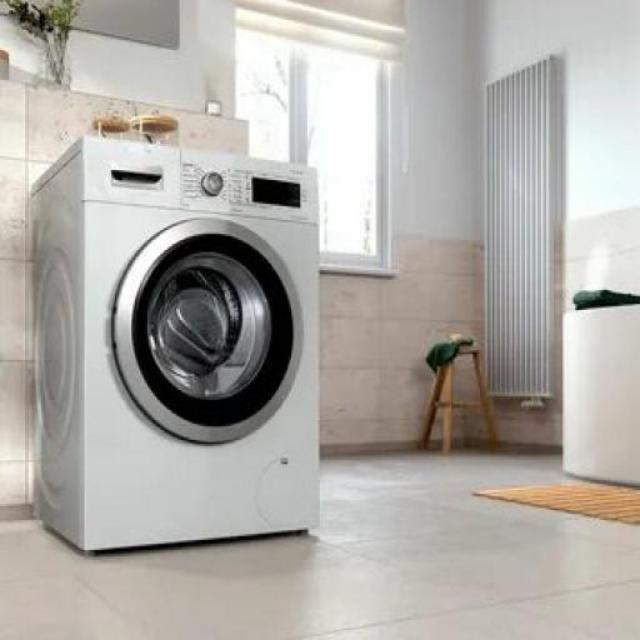Washing-Machine: (29, 140, 321, 548)
